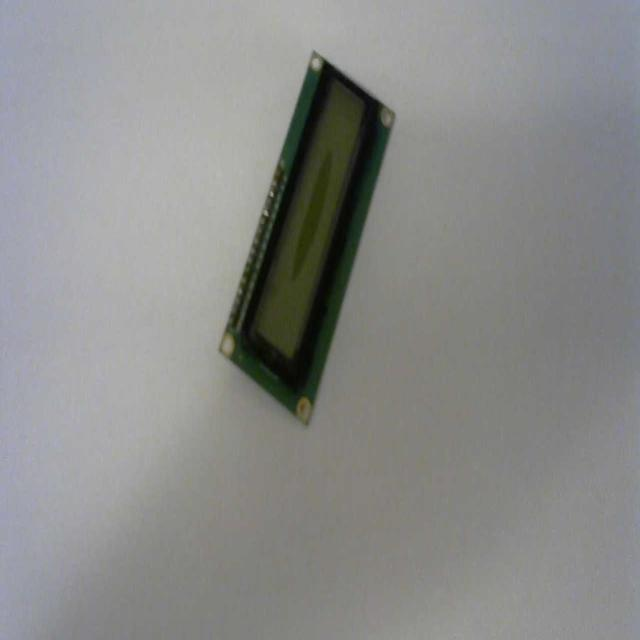lcd: (218, 47, 396, 426)
